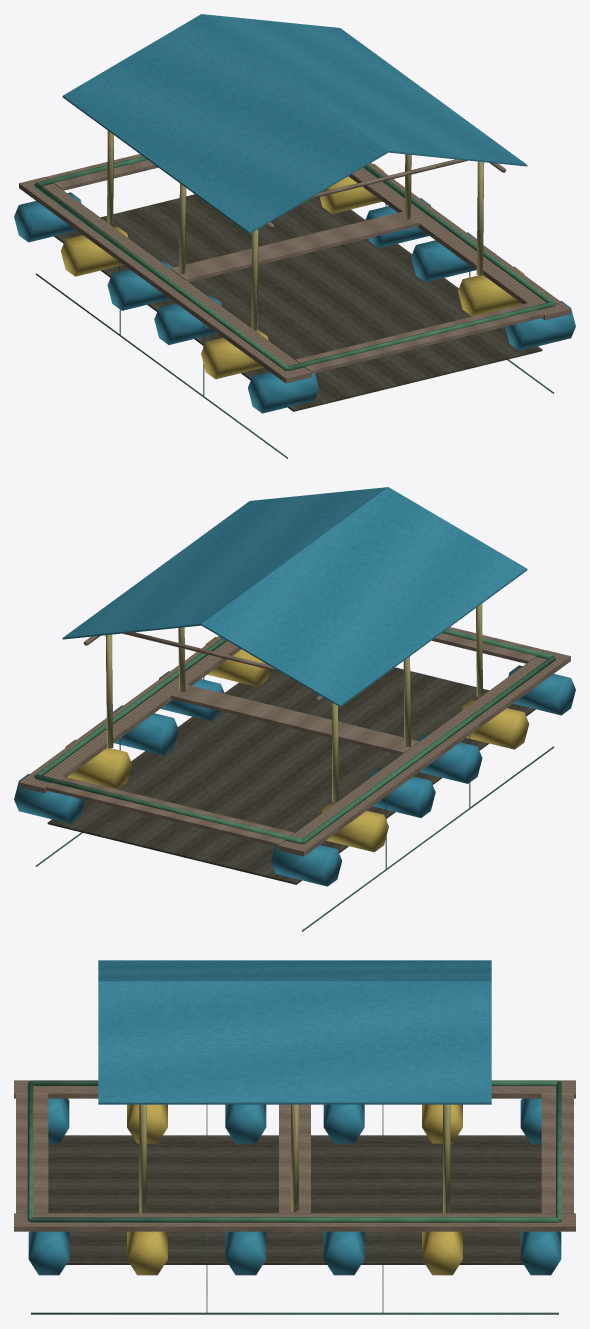
File: bung-raft-2-blue-mid.glb
The picture shows the model from 3 angles, top to bottom: view 1: azimuth 30°, elevation 25°; view 2: azimuth 150°, elevation 25°; view 3: azimuth 270°, elevation 25°; orthographic projection. The views are drawn at different scales.
Visible parts, largest first — view 1: bung-raft-2-blue-mid; view 2: bung-raft-2-blue-mid; view 3: bung-raft-2-blue-mid.
Boxes of the visible parts, x1,y1,x2,y2 form: bung-raft-2-blue-mid: (14,14,575,458); bung-raft-2-blue-mid: (14,487,575,931); bung-raft-2-blue-mid: (14,960,575,1314).
Bounding box in the file's own units: 5.34 × 4.17 × 8.
1 material, 1 textured.
